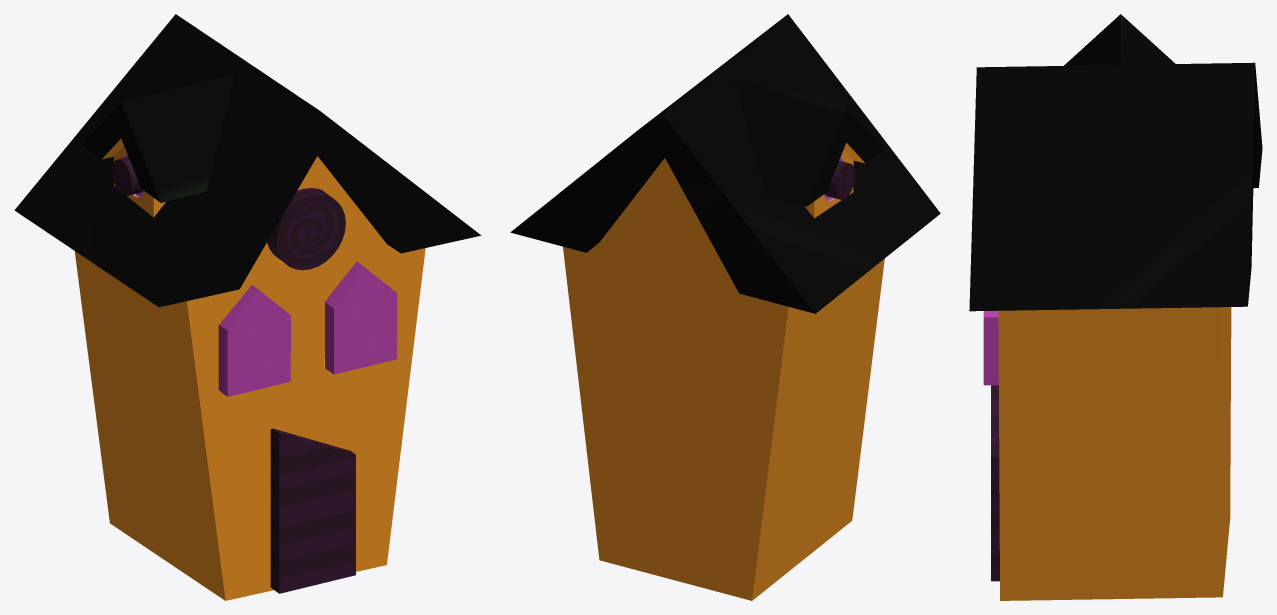
Rendered from Candy_House.fbx.
3 views of the same model, side by side, from view 1: azimuth 30°, elevation 25°; view 2: azimuth 150°, elevation 25°; view 3: azimuth 270°, elevation 25° (orthographic). The views are drawn at different scales.
Parts seen in each view (by area): view 1: huuuse.001; view 2: huuuse.001; view 3: huuuse.001.
Boxes of the visible parts, x1,y1,x2,y2 form: huuuse.001: (14,14,481,600); huuuse.001: (510,14,940,600); huuuse.001: (969,14,1262,600).
Size of the model in its own units: 11390 by 16142 by 8670.
